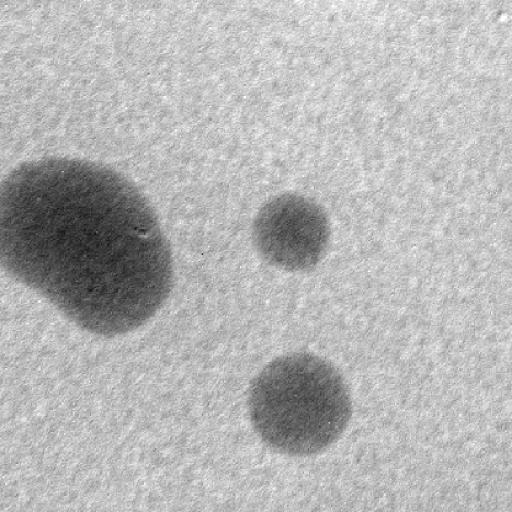Nanoparticles: (1, 157, 183, 340), (244, 350, 360, 456), (241, 189, 337, 275)
